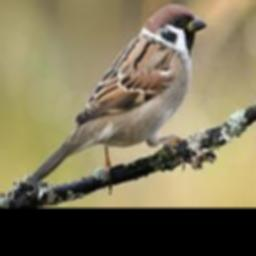Sparrow: (30, 4, 207, 190)
